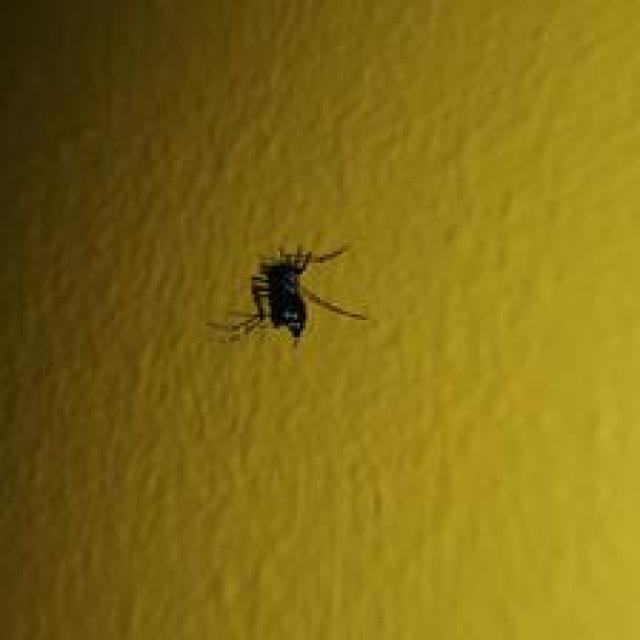Aedes albopictus: (205, 240, 368, 349)
